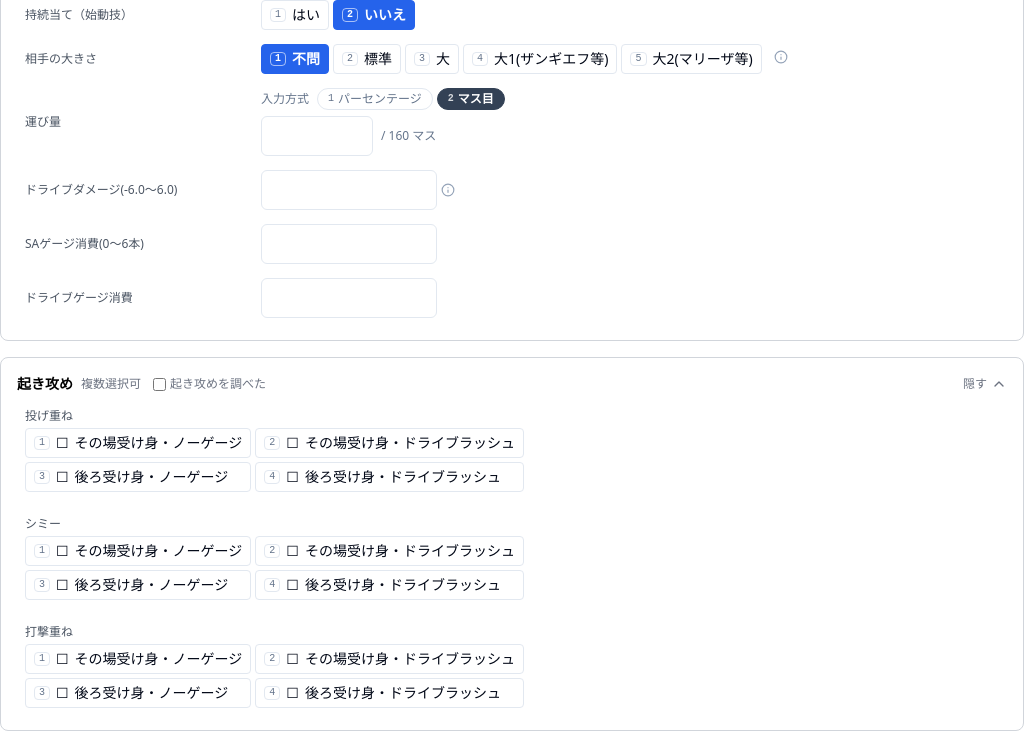
ComboEditorBasicFields 折りたたみ節(M15-05/FB①) › 見出しクリックで起き攻め節を折りたたみ/再展開できる
This screenshot has width=1024, height=741.
(page scrolled)
Expected: the checkbox with test id "combo-editor-oki-throw_meaty-neutral_tech-nogauge" is shown, top-left (25, 428), bottom-right (251, 458)
Click the button "隠す". click: [985, 384]
box: top-left (963, 376), bottom-right (1007, 392)
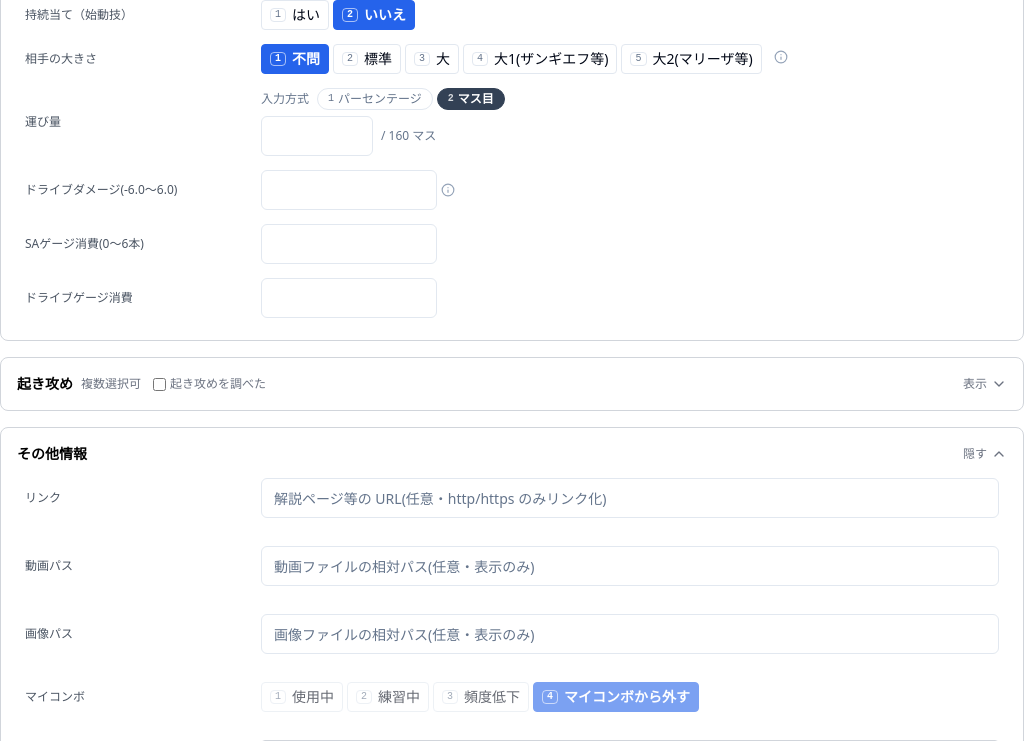
Result: the checkbox with test id "combo-editor-oki-throw_meaty-neutral_tech-nogauge" is gone
Result: the button "表示" is collapsed
// 再クリックで再展開
Click the button "表示". click: [985, 384]
box: top-left (963, 376), bottom-right (1007, 392)
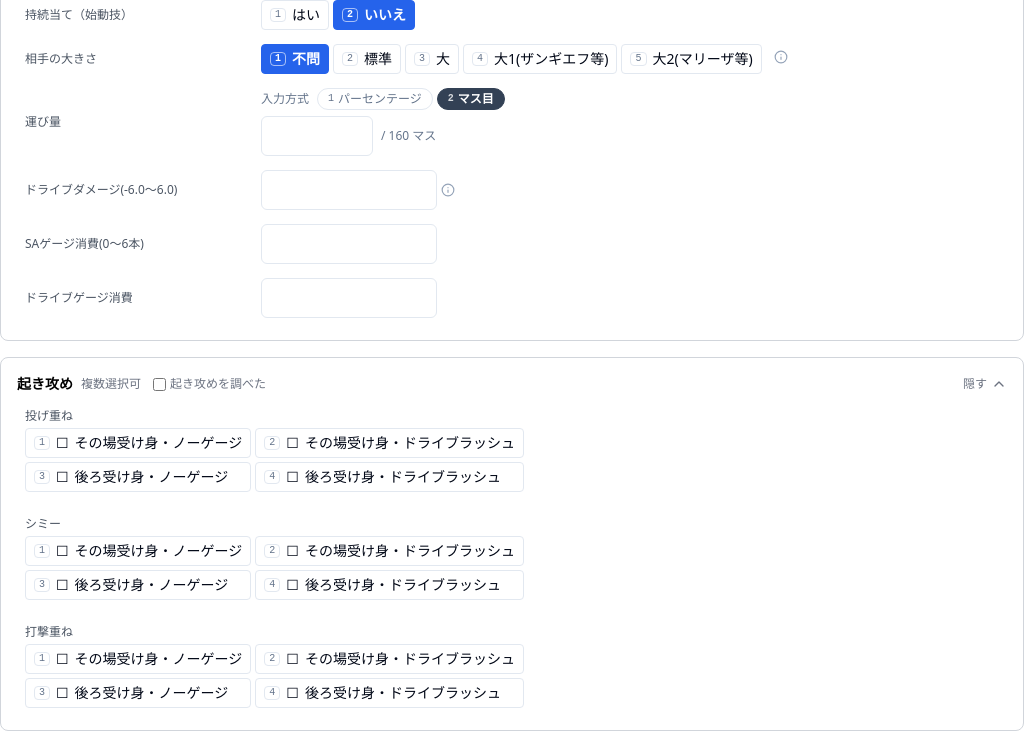
Result: the checkbox with test id "combo-editor-oki-throw_meaty-neutral_tech-nogauge" is shown at top-left (25, 428), bottom-right (251, 458)
